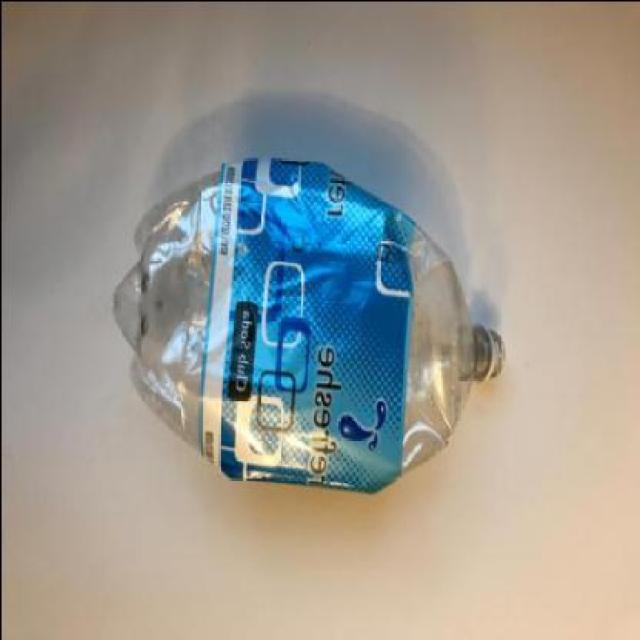PLASTIC: (106, 154, 505, 492), (201, 154, 416, 492)
